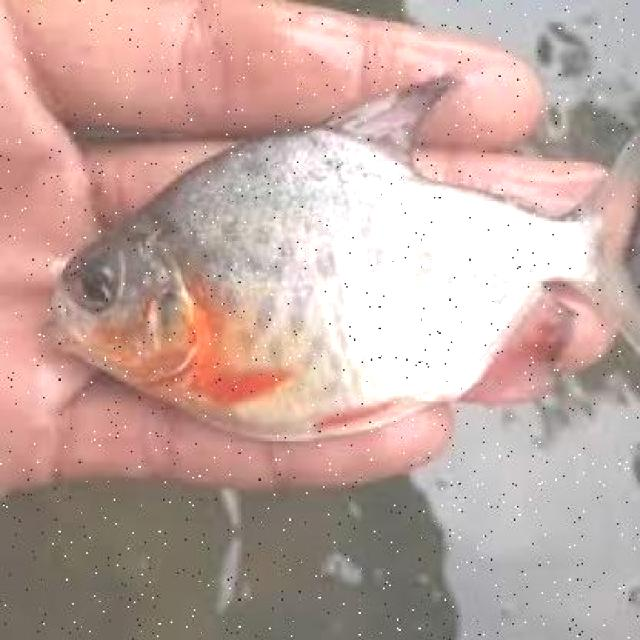ikan-pacu: (48, 114, 630, 437)
